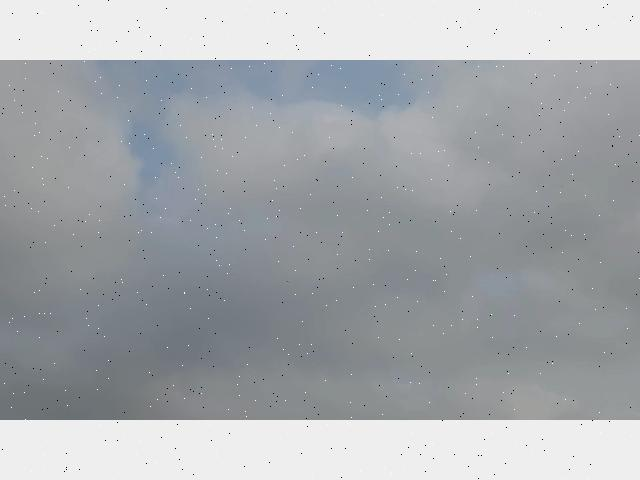Anti-Drone: (287, 280, 291, 282)
